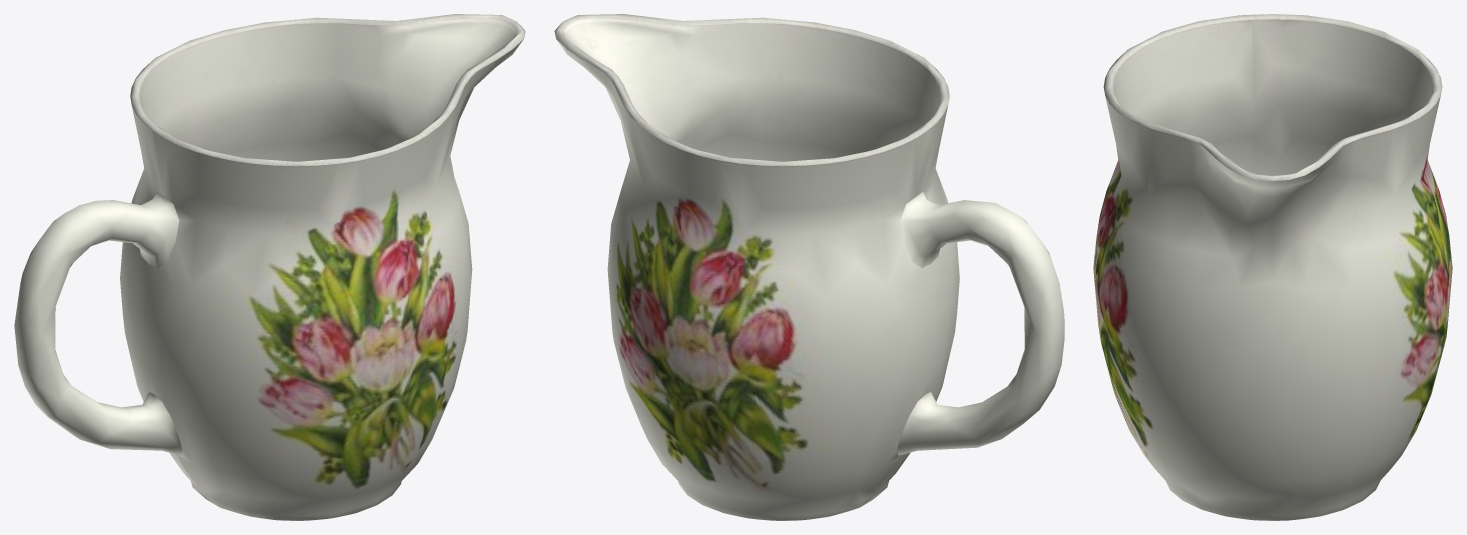
File: jug_01.glb
3 views of the same model, side by side, from view 1: azimuth 30°, elevation 25°; view 2: azimuth 150°, elevation 25°; view 3: azimuth 270°, elevation 25° (orthographic). The views are drawn at different scales.
Visible parts, largest first — view 1: jug_01; view 2: jug_01; view 3: jug_01.
Boxes of the visible parts, bbox=[...] form: jug_01: bbox=[14, 14, 525, 520]; jug_01: bbox=[554, 14, 1064, 520]; jug_01: bbox=[1093, 14, 1452, 520].
Size of the model in its own units: 0.2755 by 0.2114 by 0.1679.
1 material, 1 textured.
